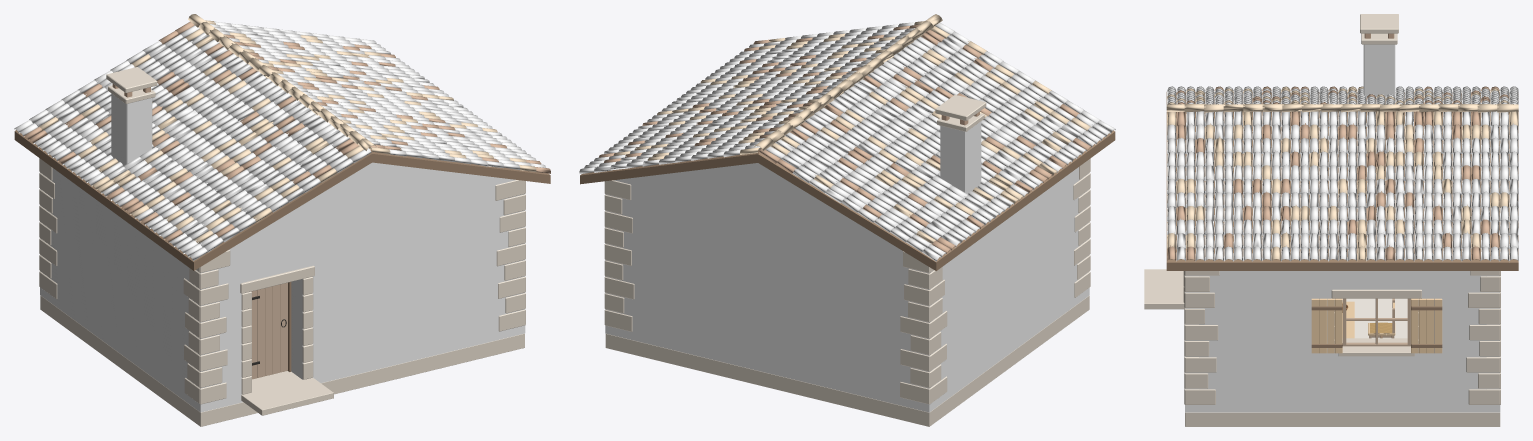
Rendered from Maison_Corse.fbx.
The picture shows the model from 3 angles, left to right: view 1: azimuth 30°, elevation 25°; view 2: azimuth 150°, elevation 25°; view 3: azimuth 270°, elevation 25°; orthographic projection.
Visible parts, largest first — view 1: Couverture_canal_et_faitieres, Mur_SUD_D, Mur_OUEST, Chainages_et_encadrements, Pignons_et_rives, Soubassement, Cheminee_exterieure, Battant, Mur_SUD_G, Palier, Mur_SUD_LINTEAU, Mur_EST_S; view 2: Couverture_canal_et_faitieres, Mur_NORD, Mur_OUEST, Pignons_et_rives, Chainages_et_encadrements, Soubassement, Cheminee_exterieure, Mur_EST_N; view 3: Couverture_canal_et_faitieres, Mur_EST_S, Pignons_et_rives, Chainages_et_encadrements, Mur_EST_N, Cadres_et_volets, Soubassement, Mur_EST_ALLEGE, Cheminee_exterieure, Palier, Sol_Sejour, Mur_EST_LINTEAU (+1 smaller).
Boxes of the visible parts, x1,y1,x2,y2 form: Couverture_canal_et_faitieres: [14, 14, 550, 260]; Mur_SUD_D: [291, 181, 501, 382]; Mur_OUEST: [40, 168, 223, 412]; Chainages_et_encadrements: [39, 158, 525, 404]; Pignons_et_rives: [14, 130, 550, 270]; Soubassement: [40, 295, 524, 426]; Cheminee_exterieure: [106, 67, 157, 165]; Battant: [251, 282, 287, 379]; Mur_SUD_G: [224, 242, 251, 406]; Palier: [241, 371, 333, 415]; Mur_SUD_LINTEAU: [251, 229, 302, 280]; Mur_EST_S: [502, 179, 525, 338]; Couverture_canal_et_faitieres: [579, 14, 1115, 261]; Mur_NORD: [628, 181, 906, 406]; Mur_OUEST: [906, 167, 1089, 412]; Pignons_et_rives: [580, 130, 1115, 270]; Chainages_et_encadrements: [604, 158, 1090, 404]; Soubassement: [605, 295, 1089, 426]; Cheminee_exterieure: [935, 94, 986, 194]; Mur_EST_N: [605, 179, 628, 338]; Couverture_canal_et_faitieres: [1166, 86, 1518, 261]; Mur_EST_S: [1185, 271, 1342, 412]; Pignons_et_rives: [1166, 92, 1518, 270]; Chainages_et_encadrements: [1183, 271, 1500, 404]; Mur_EST_N: [1411, 271, 1500, 412]; Cadres_et_volets: [1311, 298, 1442, 356]; Soubassement: [1185, 412, 1500, 426]; Mur_EST_ALLEGE: [1342, 356, 1410, 412]; Cheminee_exterieure: [1360, 14, 1398, 98]; Palier: [1144, 269, 1184, 309]; Sol_Sejour: [1342, 298, 1407, 338]; Mur_EST_LINTEAU: [1342, 271, 1410, 289].
Size of the model in its own units: 776 by 556 by 713.
